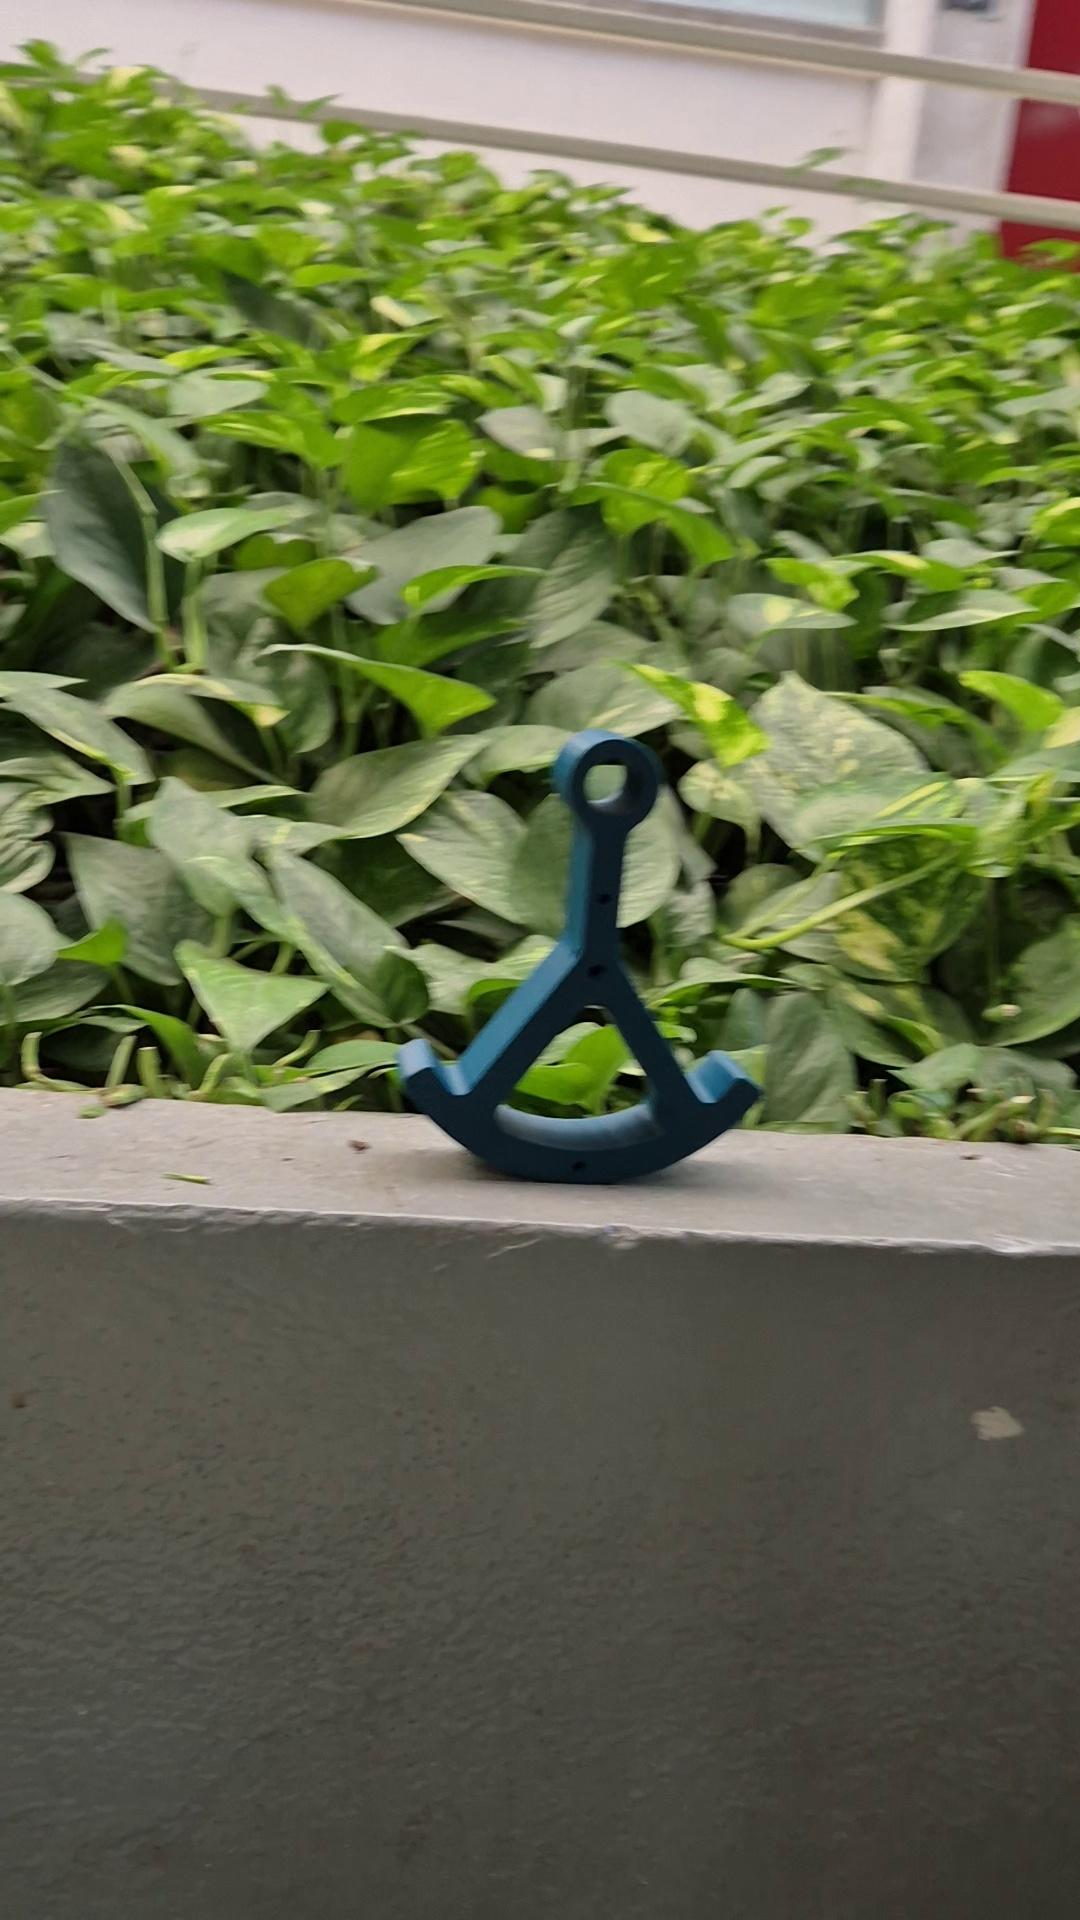Paddles: (392, 727, 770, 1188)
